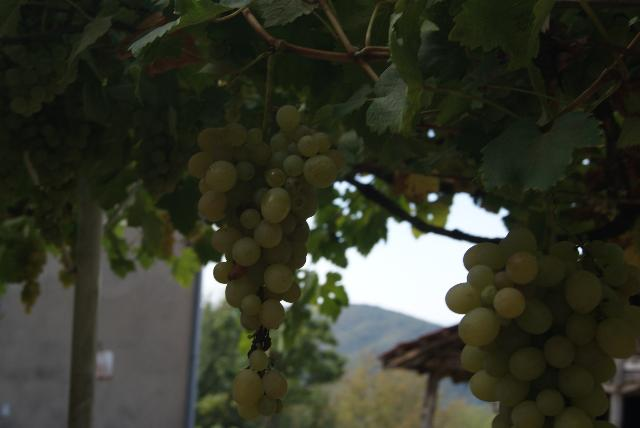grapes: (188, 105, 345, 420), (445, 226, 640, 428)
